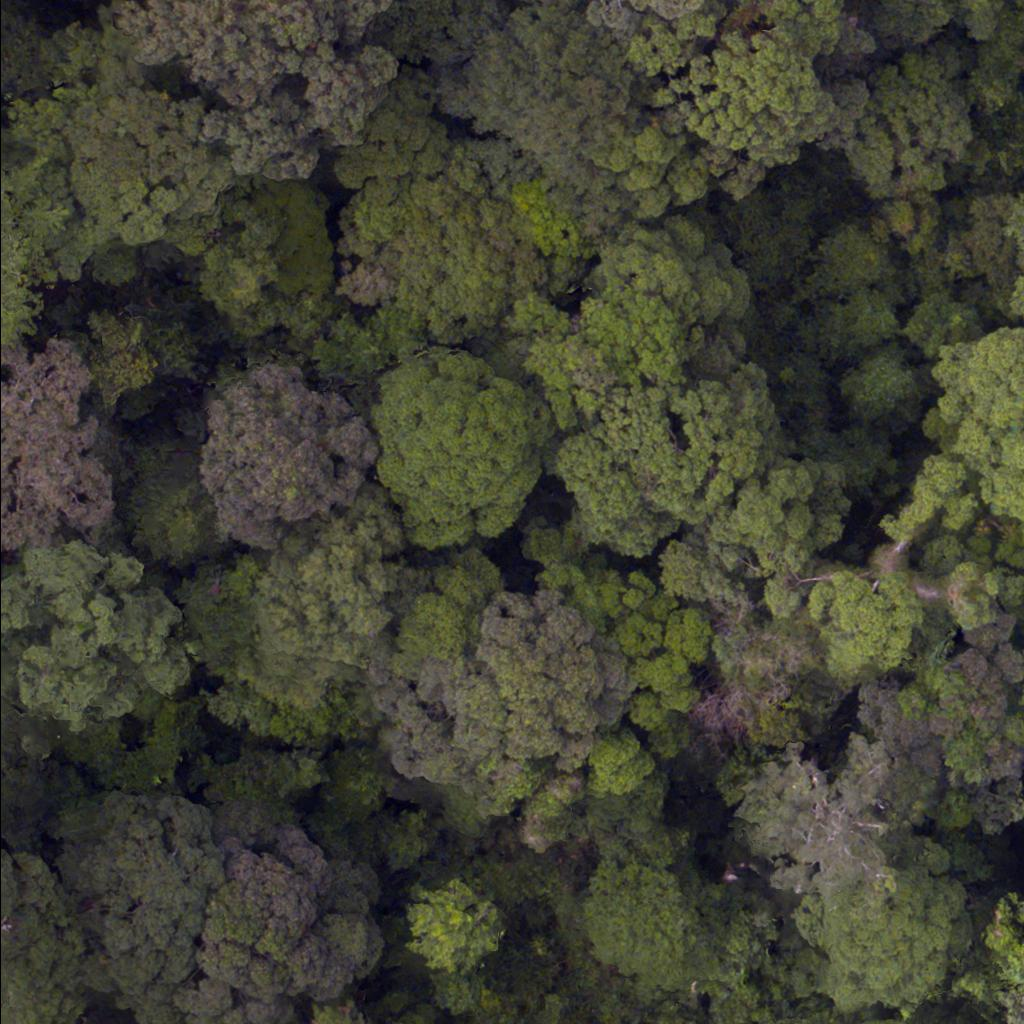crown: (334, 112, 546, 345), (124, 0, 389, 177), (432, 0, 626, 234), (555, 368, 787, 559), (26, 37, 222, 263), (187, 802, 374, 1023), (52, 789, 227, 1023), (425, 590, 639, 769), (373, 342, 550, 546), (530, 531, 710, 727), (650, 34, 863, 199), (197, 366, 378, 552), (0, 545, 189, 719), (724, 734, 894, 899), (849, 643, 1023, 791), (795, 869, 973, 1011), (906, 333, 1023, 533), (258, 500, 396, 668), (705, 459, 851, 572), (849, 52, 963, 192), (588, 219, 746, 317), (573, 270, 703, 384), (802, 568, 926, 682), (0, 855, 78, 1023), (400, 553, 495, 657), (596, 132, 705, 216), (720, 0, 873, 56), (624, 1, 724, 73), (511, 180, 603, 258), (88, 308, 156, 409), (415, 885, 496, 966), (0, 172, 28, 341), (586, 0, 706, 35), (876, 0, 953, 52), (588, 733, 651, 793), (315, 1010, 366, 1023), (1015, 680, 1023, 711), (1023, 628, 1023, 634)
